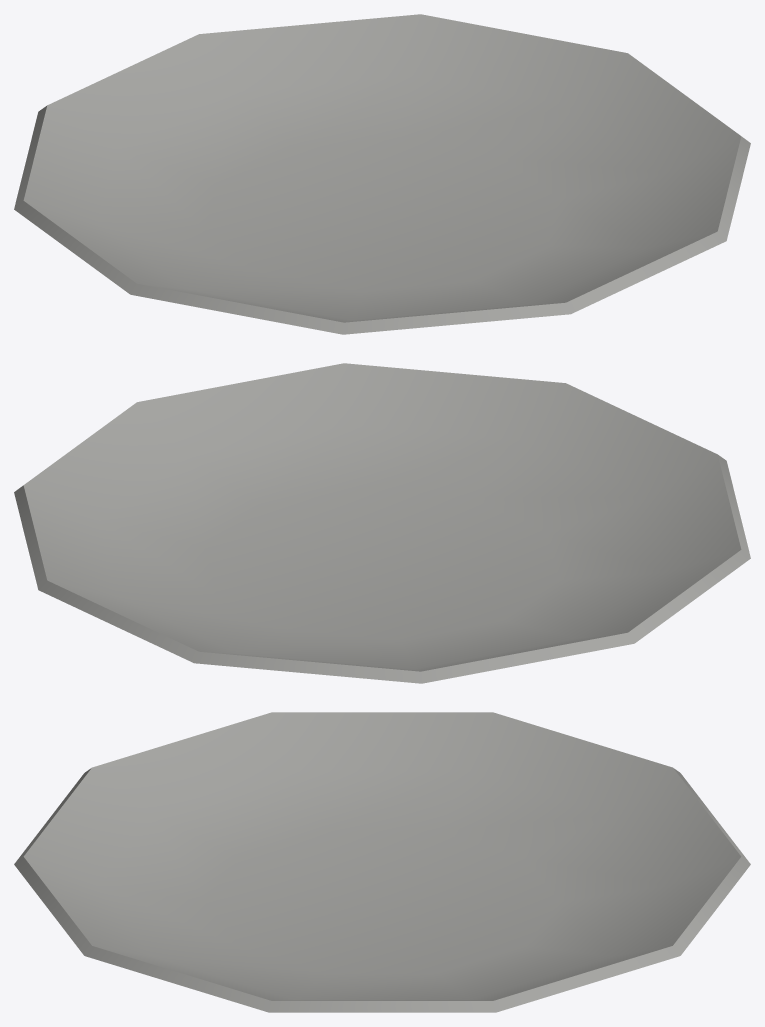
Rendered from Plate_1.glb.
3 views of the same model, one above another, from view 1: azimuth 30°, elevation 25°; view 2: azimuth 150°, elevation 25°; view 3: azimuth 270°, elevation 25° (orthographic). The views are drawn at different scales.
Parts seen in each view (by area): view 1: Plate_1; view 2: Plate_1; view 3: Plate_1.
Part boxes in pixels (x1=…): Plate_1: x1=14, y1=14, x2=750, y2=334; Plate_1: x1=14, y1=363, x2=750, y2=683; Plate_1: x1=14, y1=712, x2=750, y2=1012.
Size of the model in its own units: 0.1827 by 0.0159 by 0.1921.
1 material, 1 textured.
